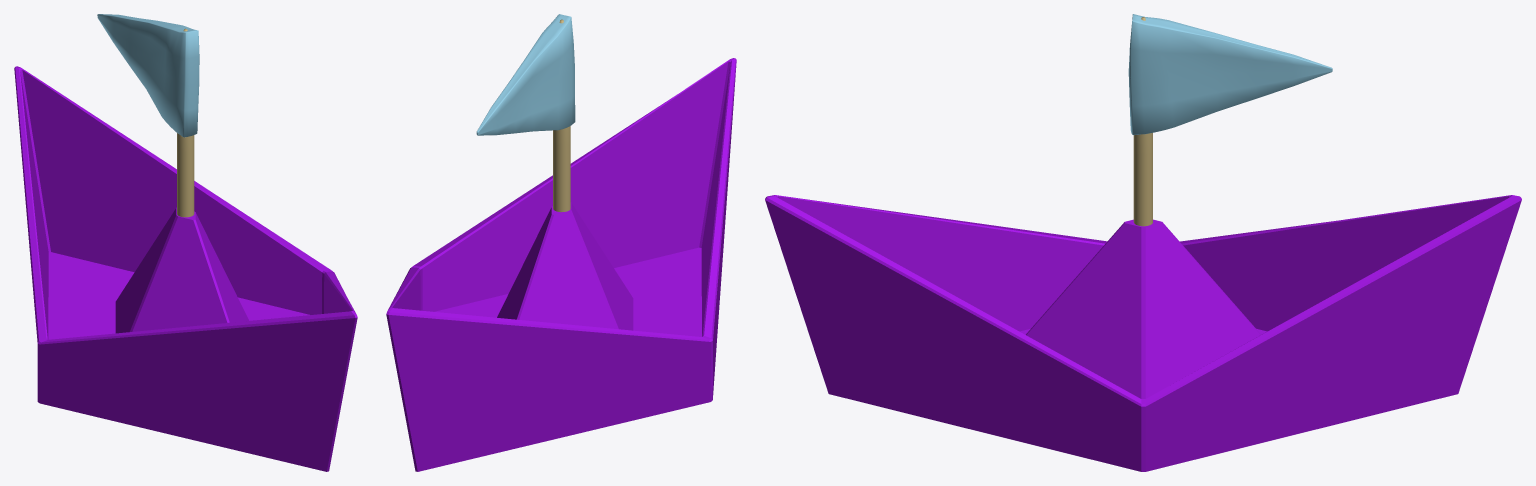
The model's file is origamiboat.fbx.
3 renders of one model, left to right at view 1: azimuth 30°, elevation 25°; view 2: azimuth 150°, elevation 25°; view 3: azimuth 270°, elevation 25°, orthographic. The views are drawn at different scales.
Parts seen in each view (by area): view 1: Plane; view 2: Plane; view 3: Plane.
Part boxes in pixels (box(x1,y1,x2,y2)): Plane: box(14, 14, 357, 471); Plane: box(386, 14, 736, 471); Plane: box(765, 14, 1521, 471).
Bounding box in the file's own units: 145 × 159 × 290.
